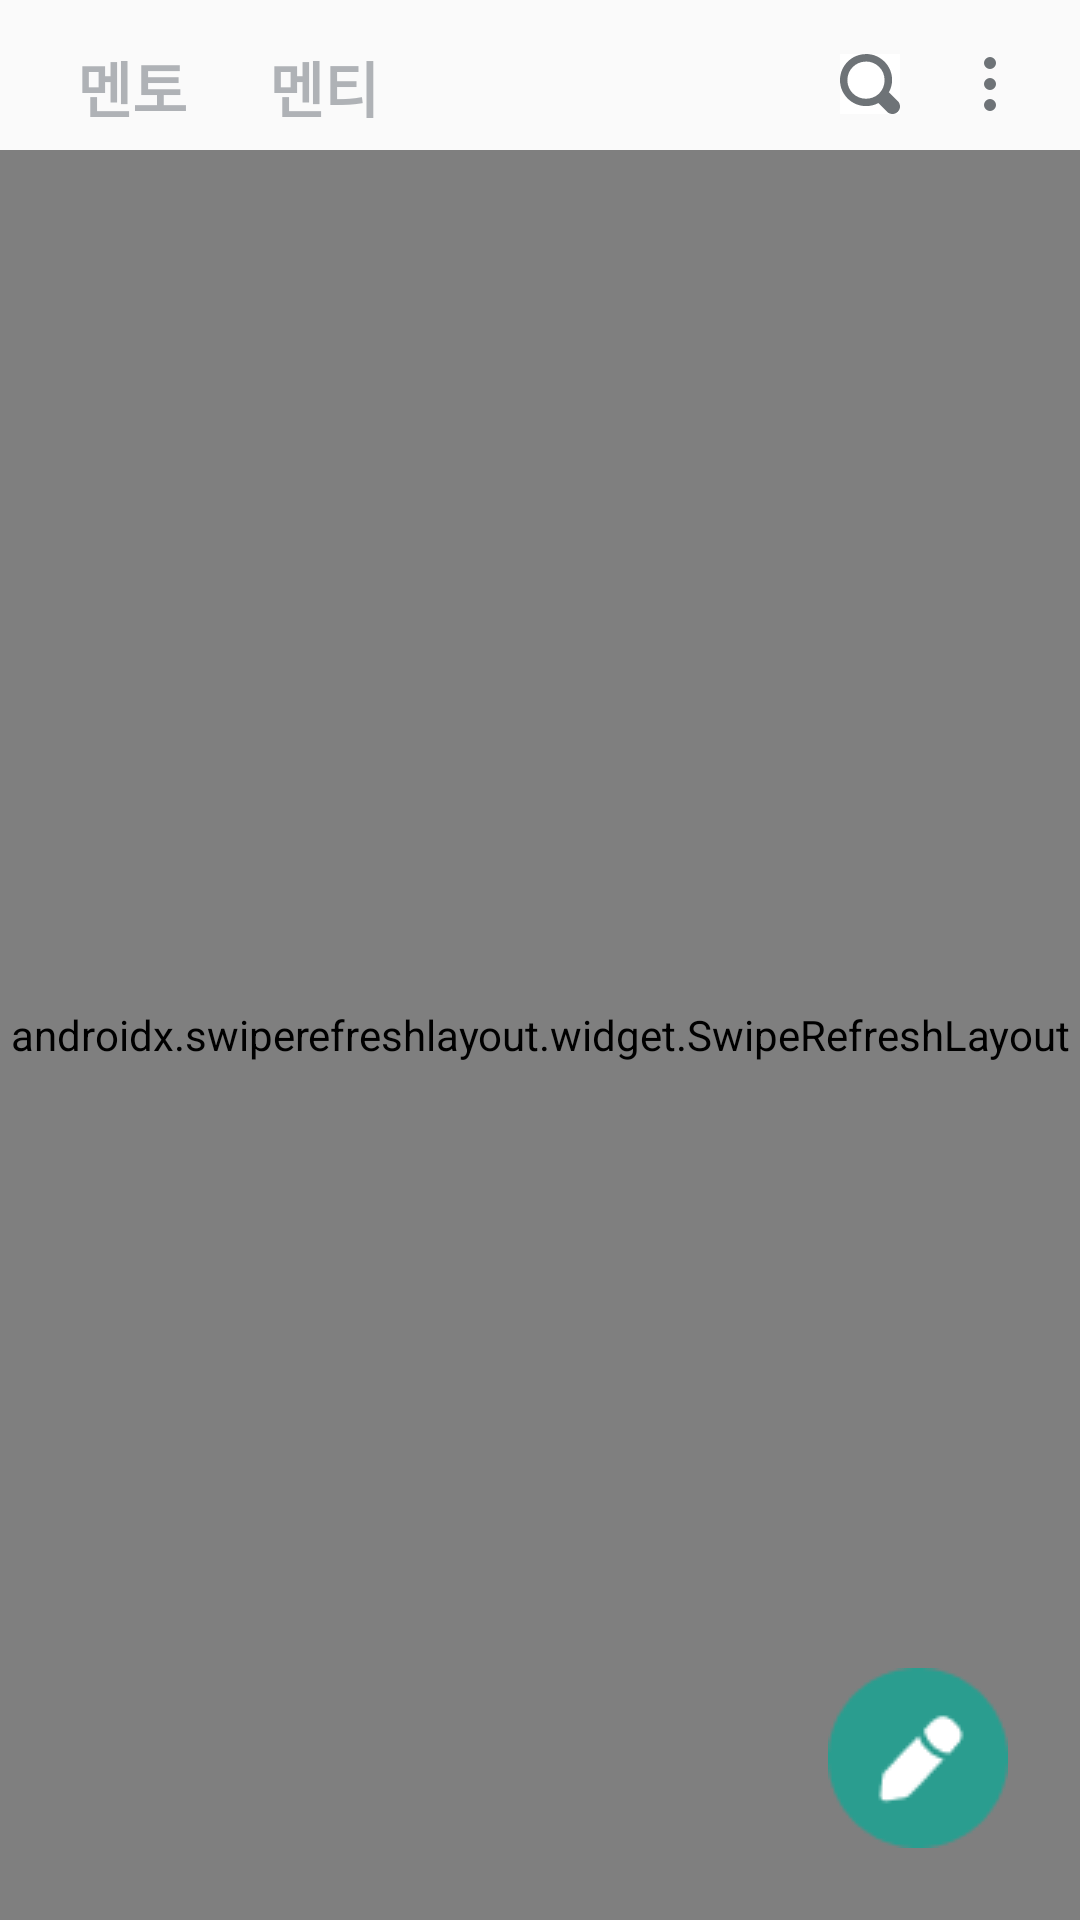

Icons on this 1080px×1920px Android screen, each with the point to tap as [x,y]:
search: [870,84]
writebtn: [918,1758]
